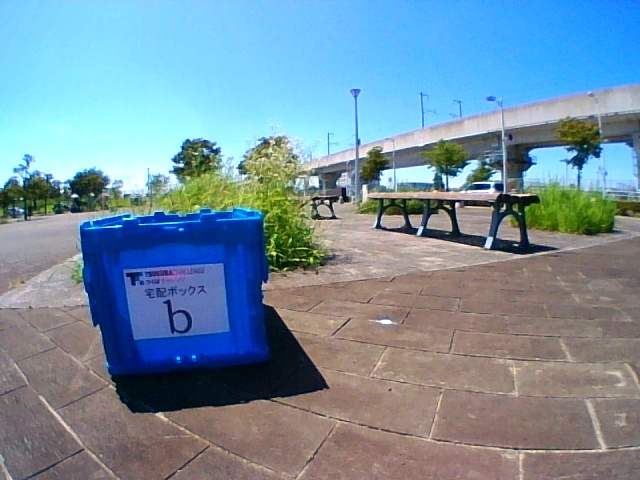blue_box: (106, 215, 260, 358)
tag_b: (135, 269, 213, 333)
